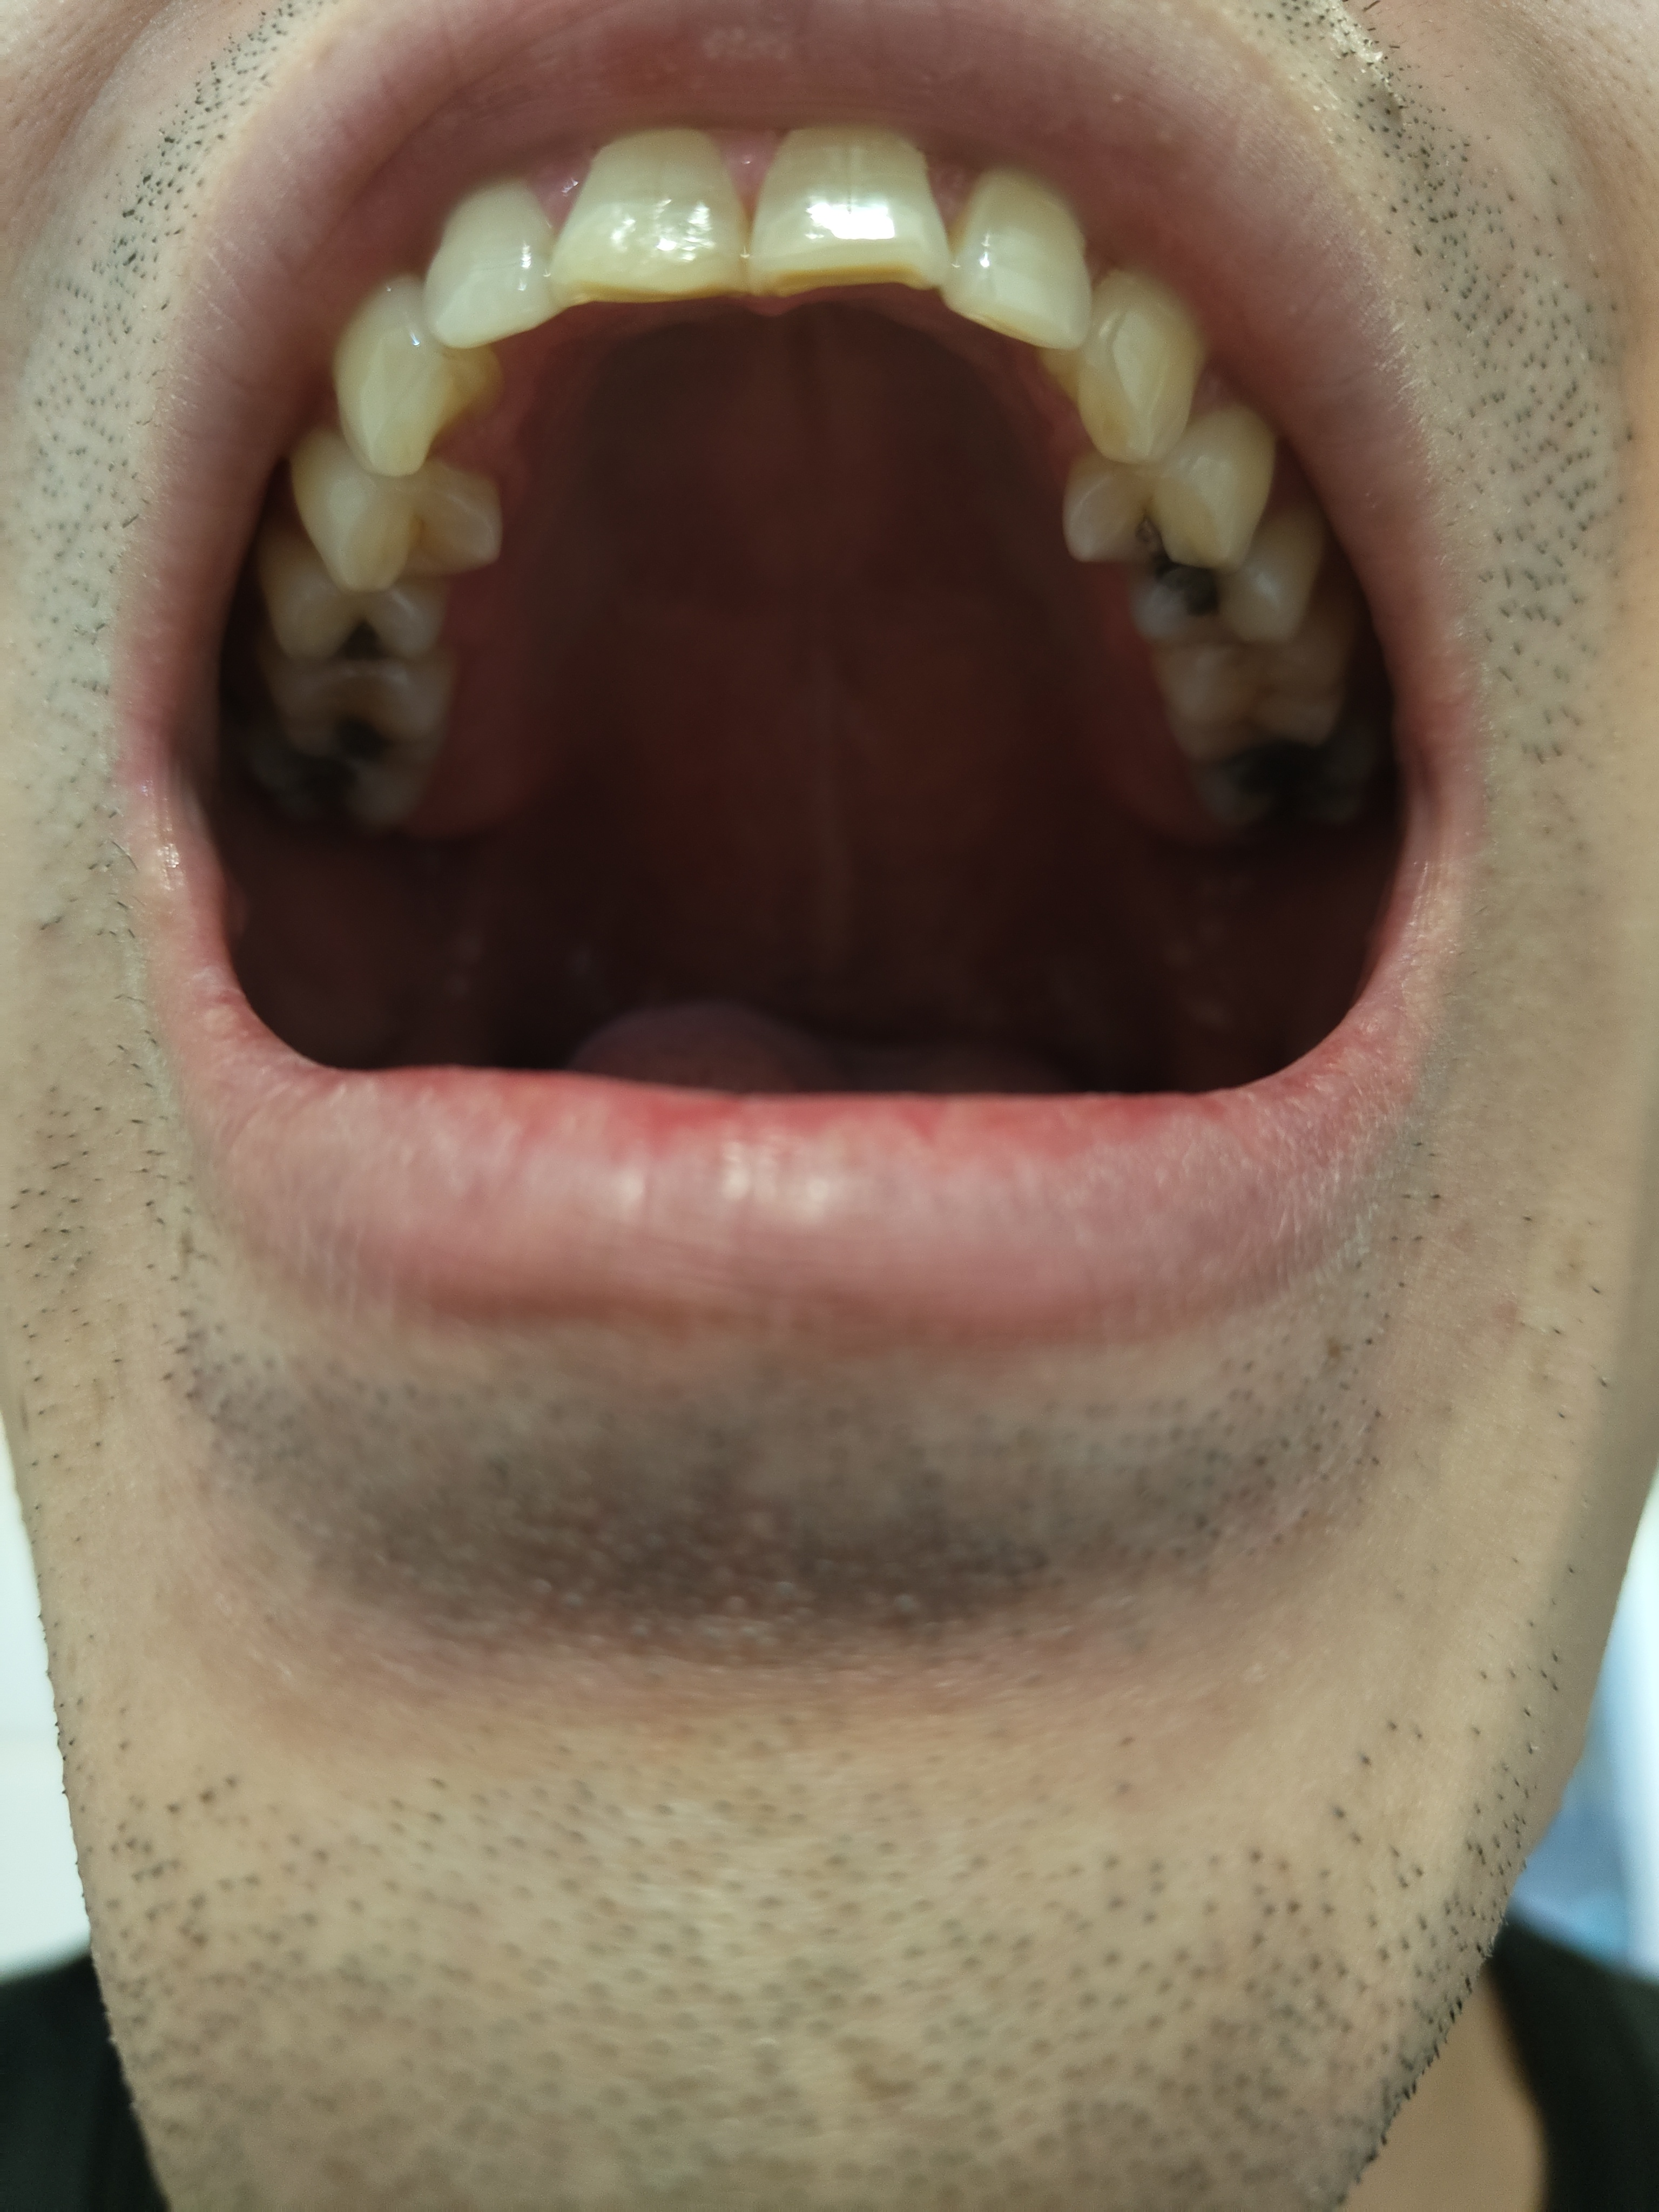teeth: (298, 280, 507, 498), (1065, 394, 1270, 568), (753, 115, 945, 280), (307, 477, 512, 629), (556, 127, 741, 287), (962, 171, 1086, 341), (423, 179, 552, 333), (1100, 272, 1204, 449)
